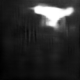plane: (29, 2, 76, 30)
